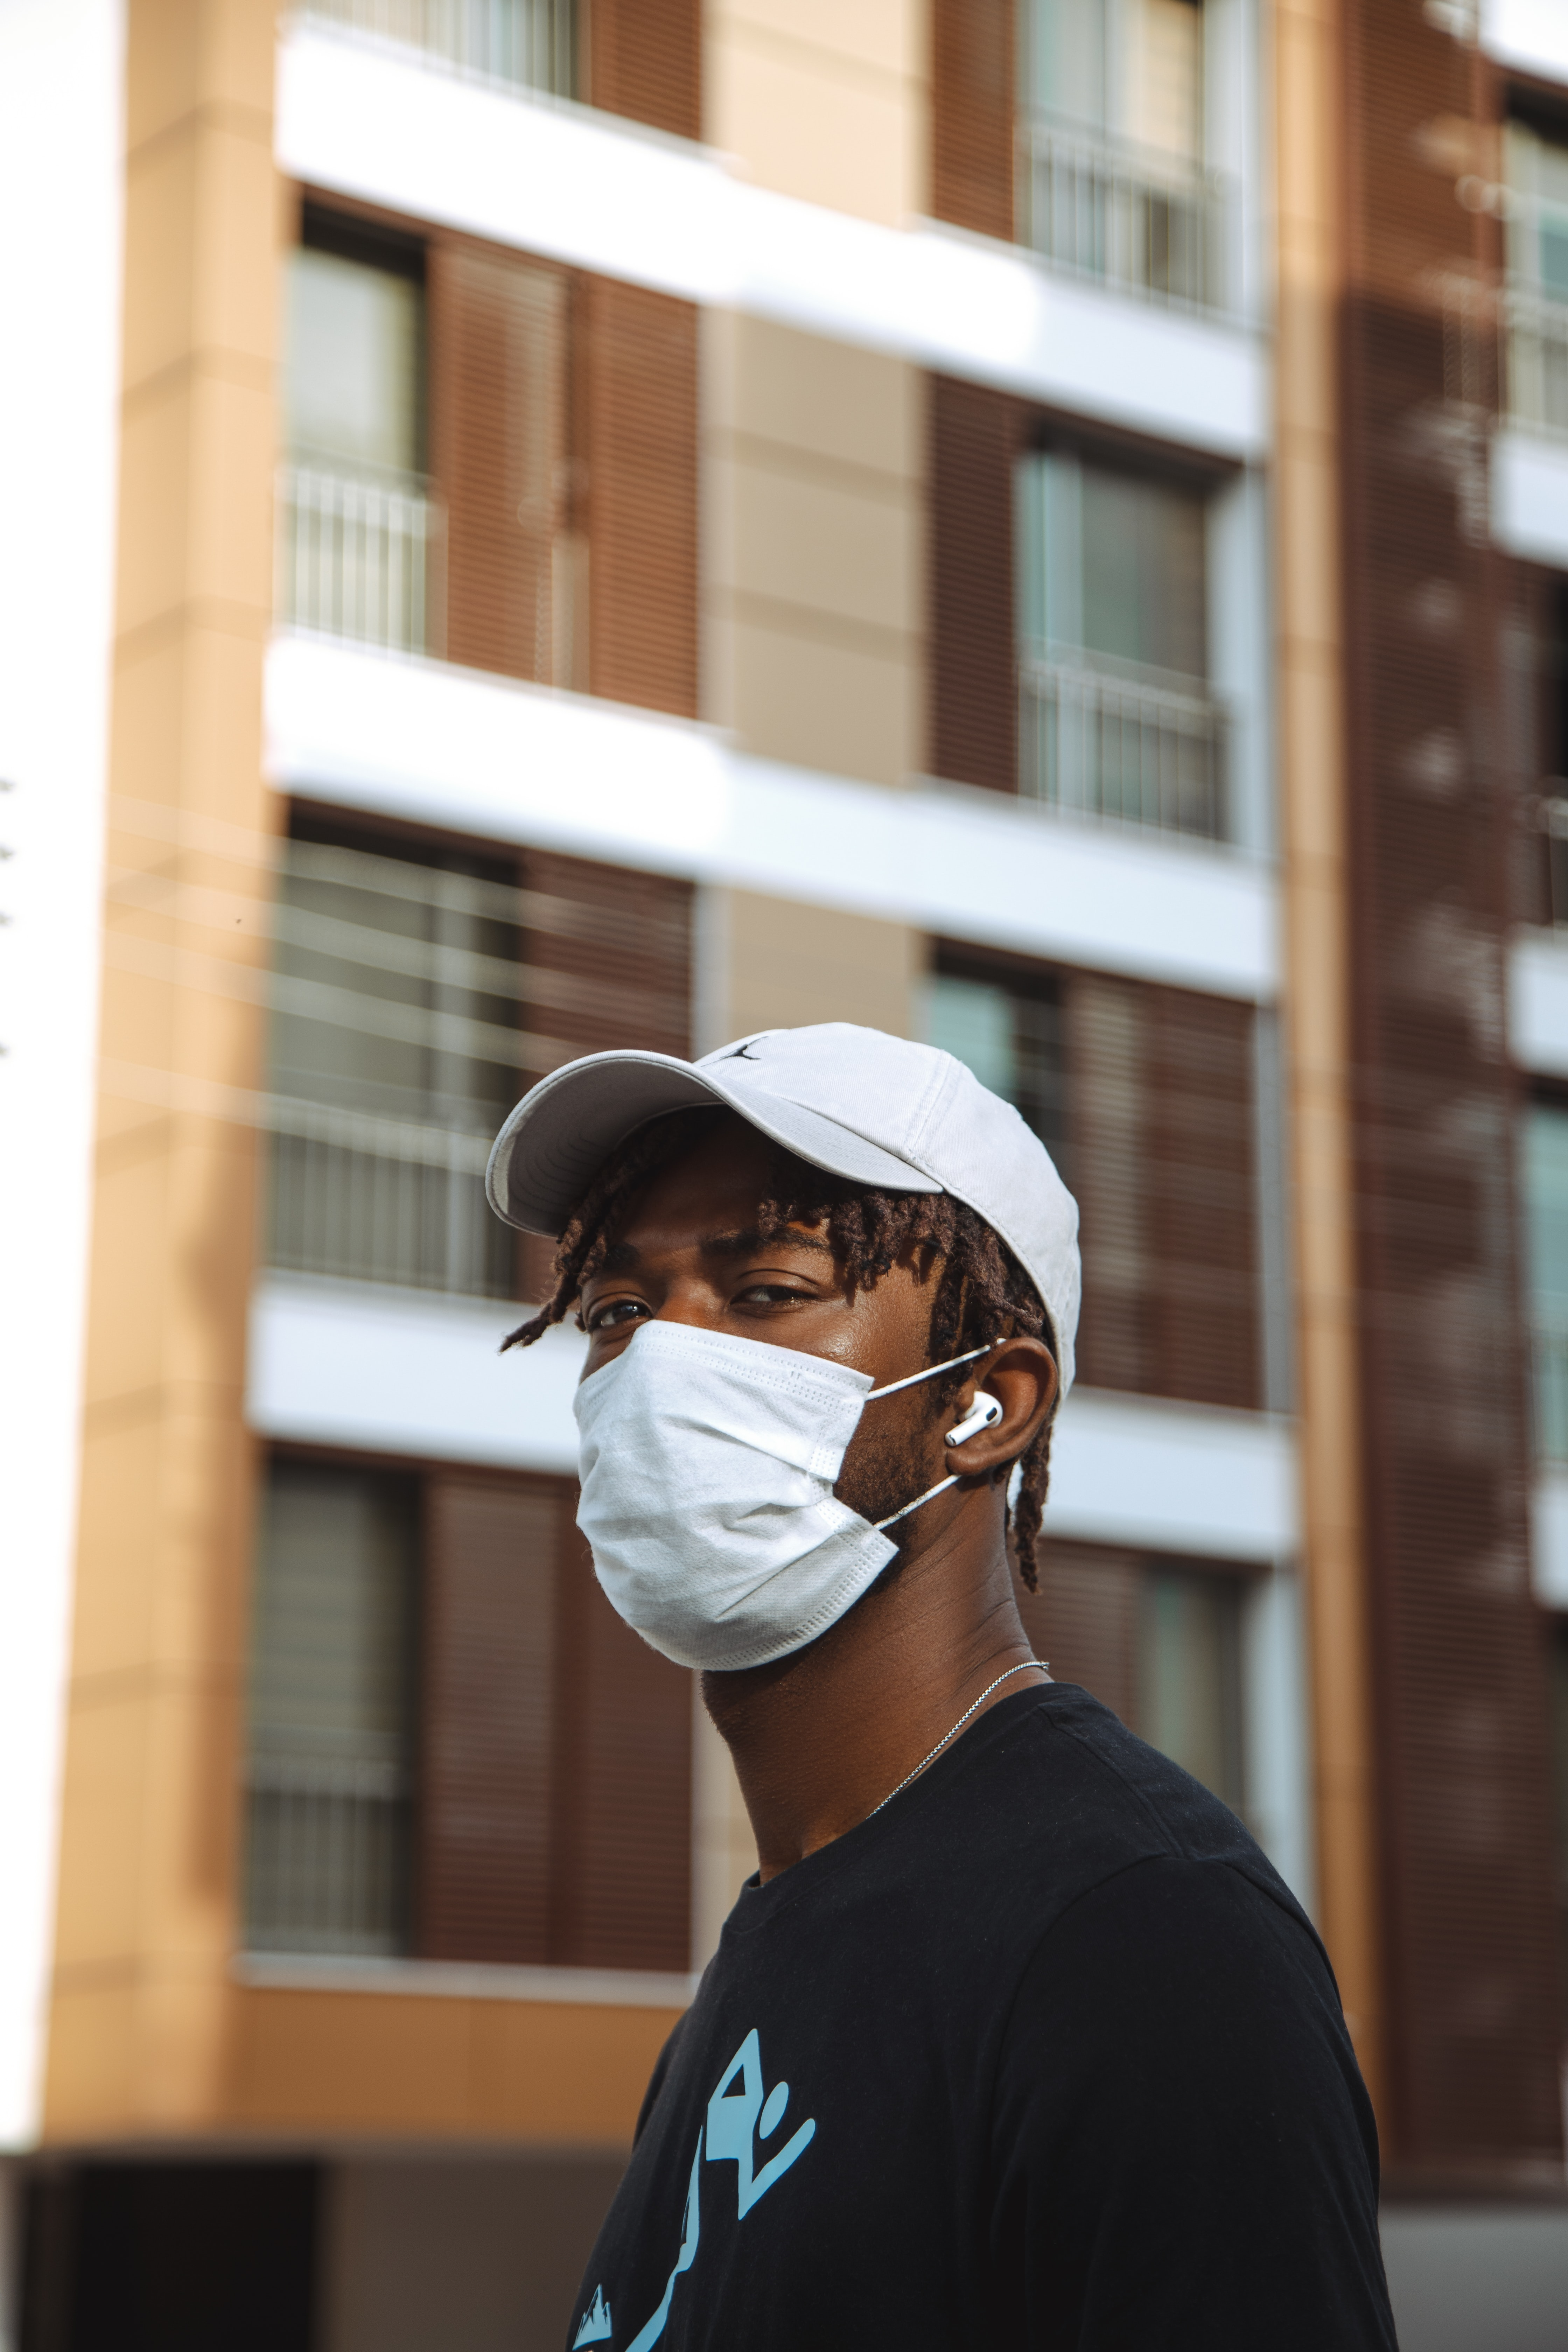mask: (533, 1315, 1004, 1678)
person: (399, 1018, 1446, 2352)
